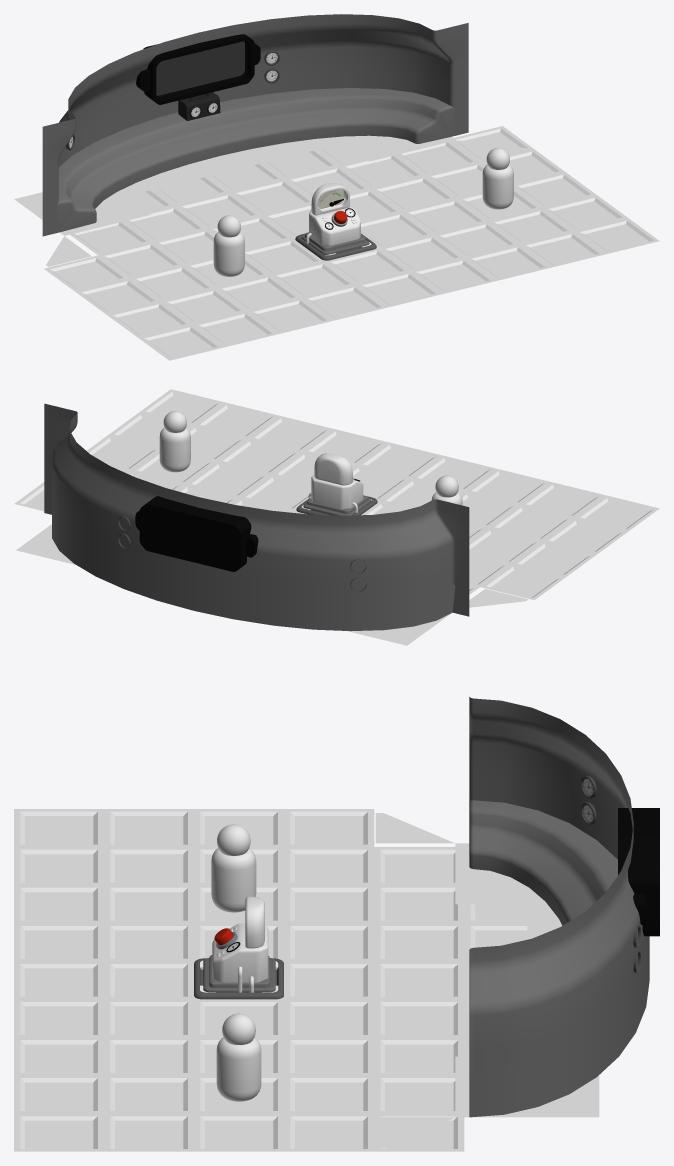
The picture shows the model from 3 angles, top to bottom: view 1: azimuth 30°, elevation 25°; view 2: azimuth 150°, elevation 25°; view 3: azimuth 270°, elevation 25°; orthographic projection. The views are drawn at different scales.
Parts seen in each view (by area): view 1: Cylinder.001, Cube, Plane.057, Plane.029, Plane.053, Plane.054, Plane.032, Plane.051, Plane.060, Plane.030, Plane.035, Plane.041 (+52 smaller); view 2: Cylinder.001, Cube, Plane.035, Plane.054, Plane.059, Plane.041, Plane.057, Plane.060, Plane.062, Plane.044, Plane.032, Plane.033 (+27 smaller); view 3: Cylinder.001, Cube, Plane.050, Plane, Plane.001, Plane.002, Plane.040, Plane.045, Plane.046, Plane.047, Plane.048, Plane.049 (+47 smaller).
Part boxes in pixels (x1,y1,x2,y2): Cylinder.001: (42, 14, 468, 236); Cube: (143, 34, 254, 104); Plane.057: (520, 231, 604, 267); Plane.029: (270, 261, 355, 297); Plane.053: (44, 255, 129, 291); Plane.054: (356, 271, 441, 307); Plane.032: (434, 221, 518, 257); Plane.051: (98, 242, 183, 278); Plane.060: (193, 311, 277, 347); Plane.030: (488, 208, 573, 244); Plane.035: (107, 301, 191, 337); Plane.041: (402, 198, 487, 234); Cylinder.001: (44, 403, 469, 631); Cube: (139, 496, 251, 571); Plane.035: (543, 518, 628, 554); Plane.054: (357, 442, 442, 478); Plane.059: (248, 415, 333, 451); Plane.041: (186, 461, 270, 497); Plane.057: (194, 402, 278, 438); Plane.060: (520, 482, 605, 517); Plane.062: (574, 495, 659, 531); Plane.044: (512, 541, 596, 577); Plane.032: (217, 438, 301, 474); Plane.033: (489, 505, 573, 540); Cylinder.001: (469, 697, 649, 1117); Cube: (618, 808, 659, 936); Plane.050: (284, 1037, 374, 1075); Plane: (374, 961, 464, 999); Plane.001: (374, 999, 464, 1037); Plane.002: (374, 923, 464, 961); Plane.040: (194, 1113, 284, 1151); Plane.045: (284, 961, 374, 999); Plane.046: (284, 999, 374, 1037); Plane.047: (284, 923, 374, 961); Plane.048: (284, 1075, 374, 1113); Plane.049: (284, 1113, 374, 1151).
Size of the model in its own units: 900 by 196 by 717.
